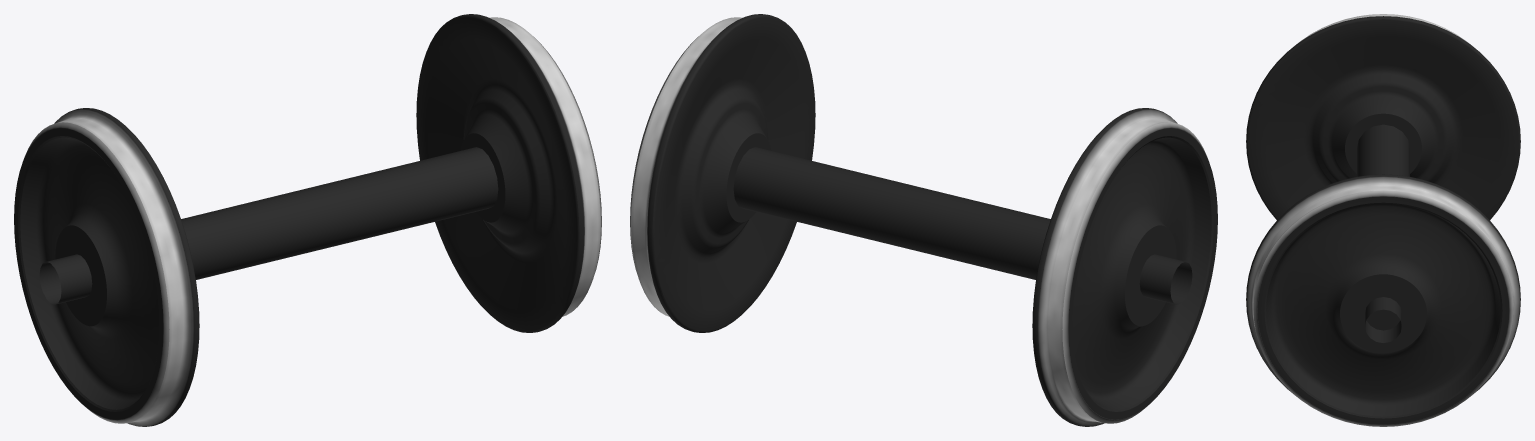
Rendered from wheelset.glb.
3 renders of one model, left to right at view 1: azimuth 30°, elevation 25°; view 2: azimuth 150°, elevation 25°; view 3: azimuth 270°, elevation 25°, orthographic. The views are drawn at different scales.
Visible parts, largest first — view 1: Wheel_F.001; view 2: Wheel_F.001; view 3: Wheel_F.001.
Boxes of the visible parts, x1,y1,x2,y2 form: Wheel_F.001: (14,14,601,426); Wheel_F.001: (630,14,1217,426); Wheel_F.001: (1246,14,1520,426).
Bounding box in the file's own units: 1.87 × 1.03 × 1.03.
Materials: 1 (1 with a texture image).
